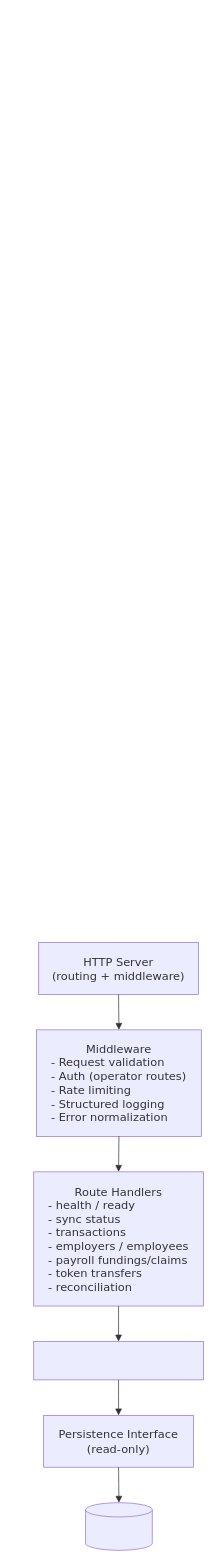
Some shapes in this 216 by 1563 pixel diagram are drawn without their labels. The shapes that lost their labels are listed below. From the top down, each one's centre as x and y in pixels, then its label:
At (118,1360): "Query / Pagination Layer".
At (118,1526): "PostgreSQL".
